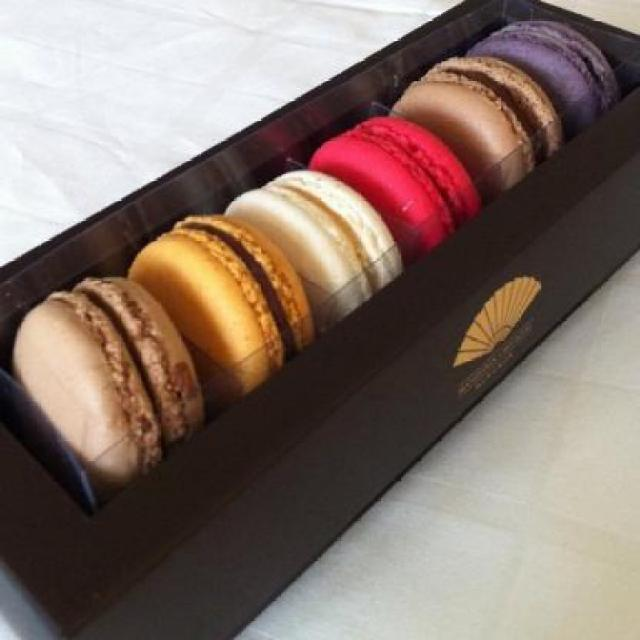Macaron: (16, 18, 621, 482)
